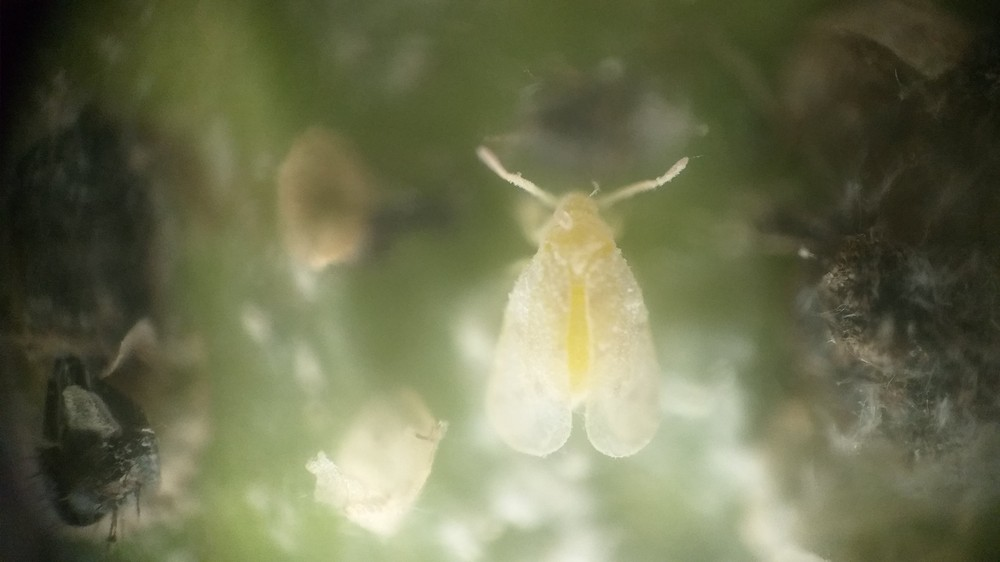Mosca Blanca: (449, 143, 697, 462)
